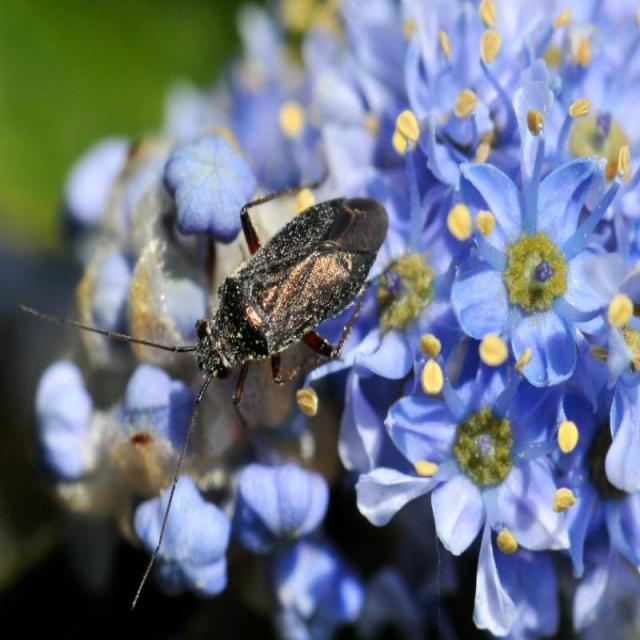Miridae-Adult-: (70, 170, 398, 426)
